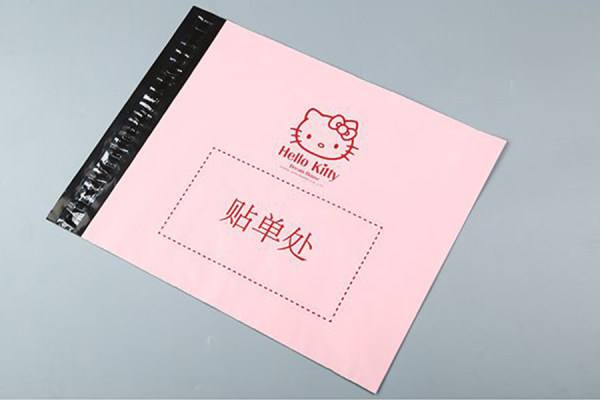塑料袋: (48, 7, 506, 392)
